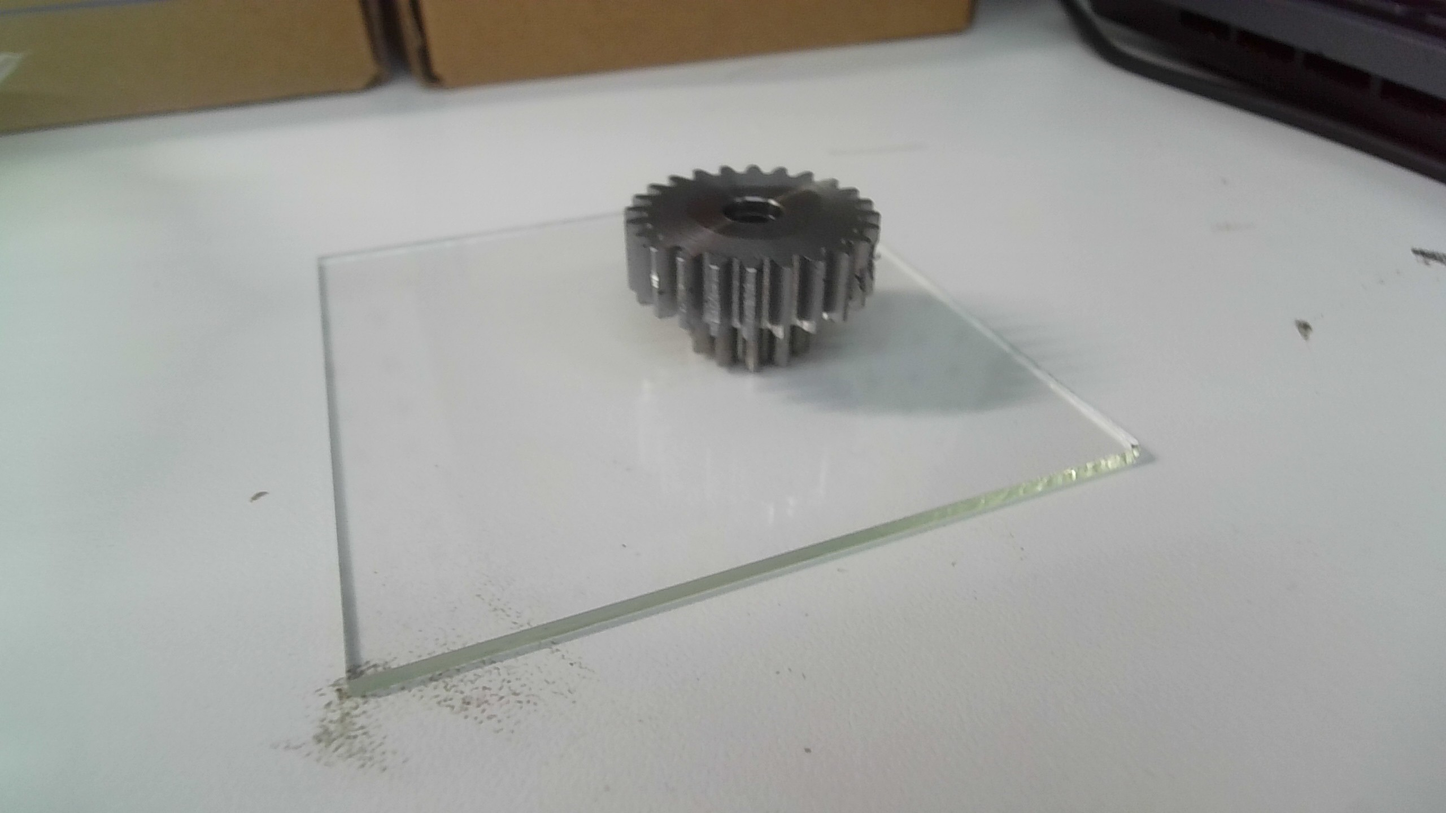gear: (616, 163, 886, 370)
